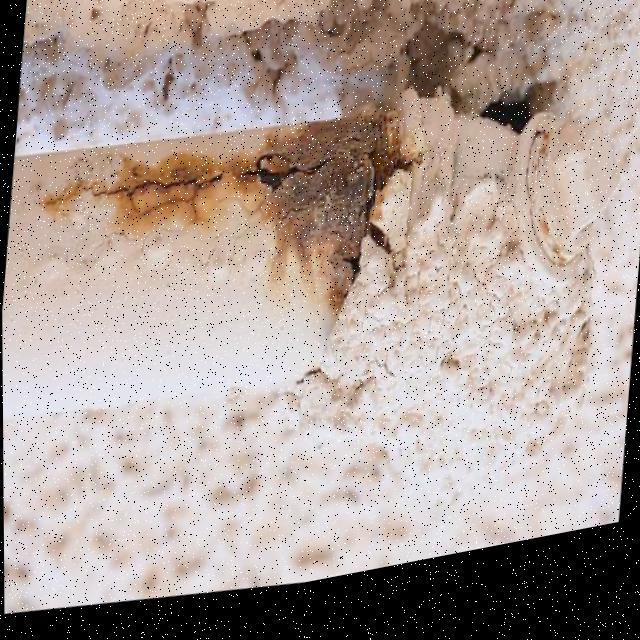crack: (90, 153, 228, 232)
hole: (242, 153, 294, 218), (356, 153, 401, 221), (332, 254, 363, 305), (360, 232, 395, 273)
